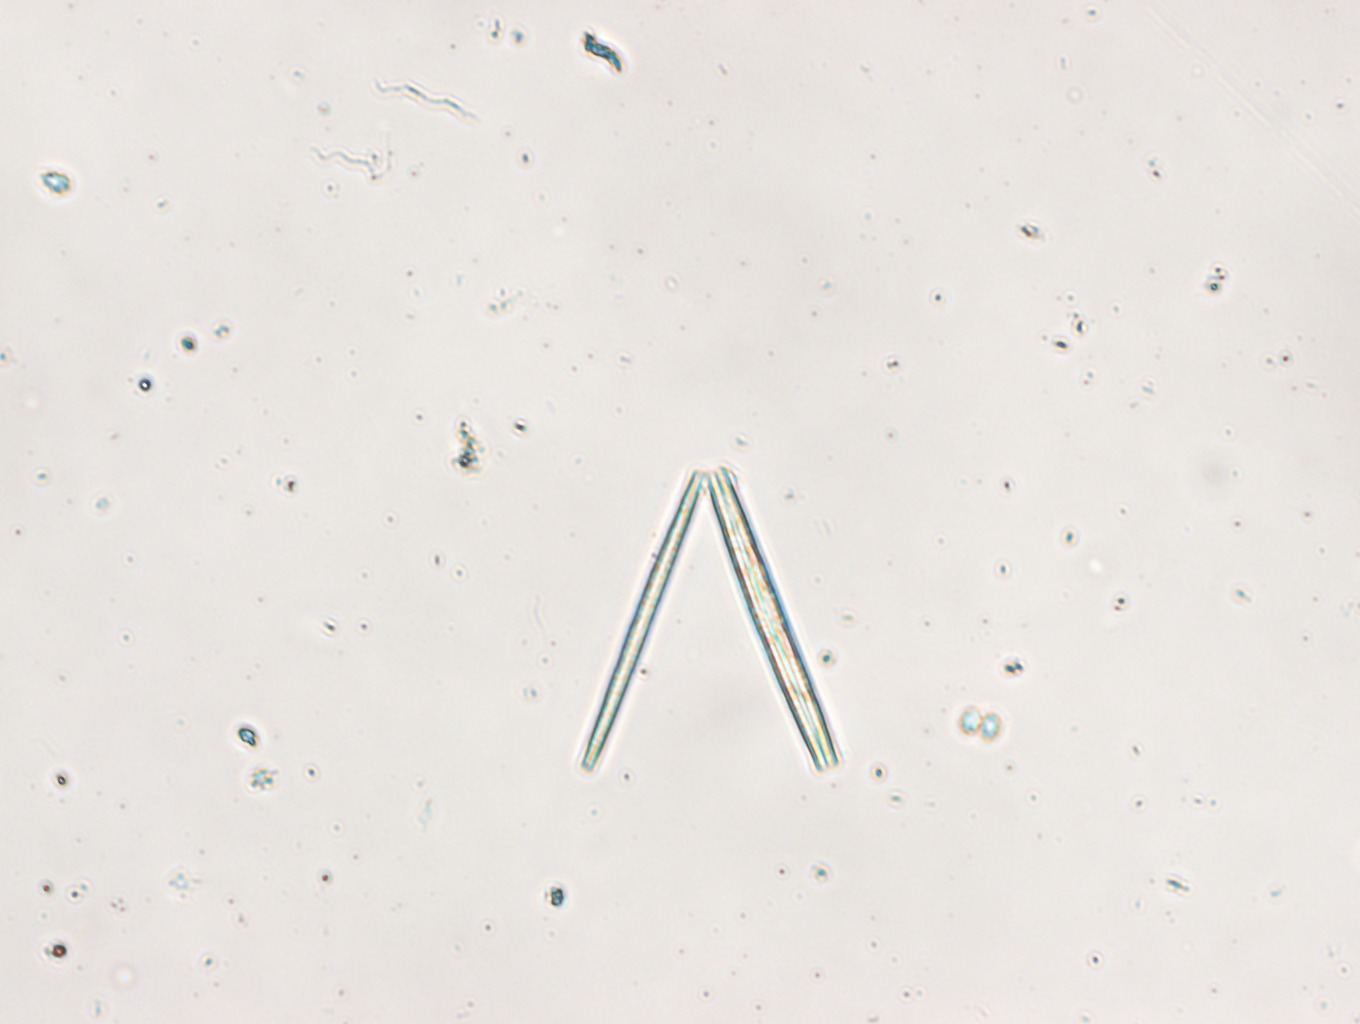thalassionema frauenfeldii: (572, 444, 856, 790)
